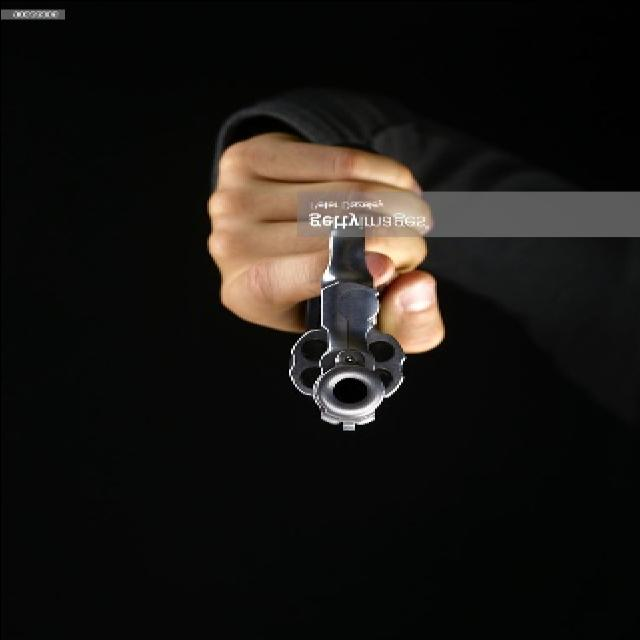handgun: (283, 223, 407, 445)
